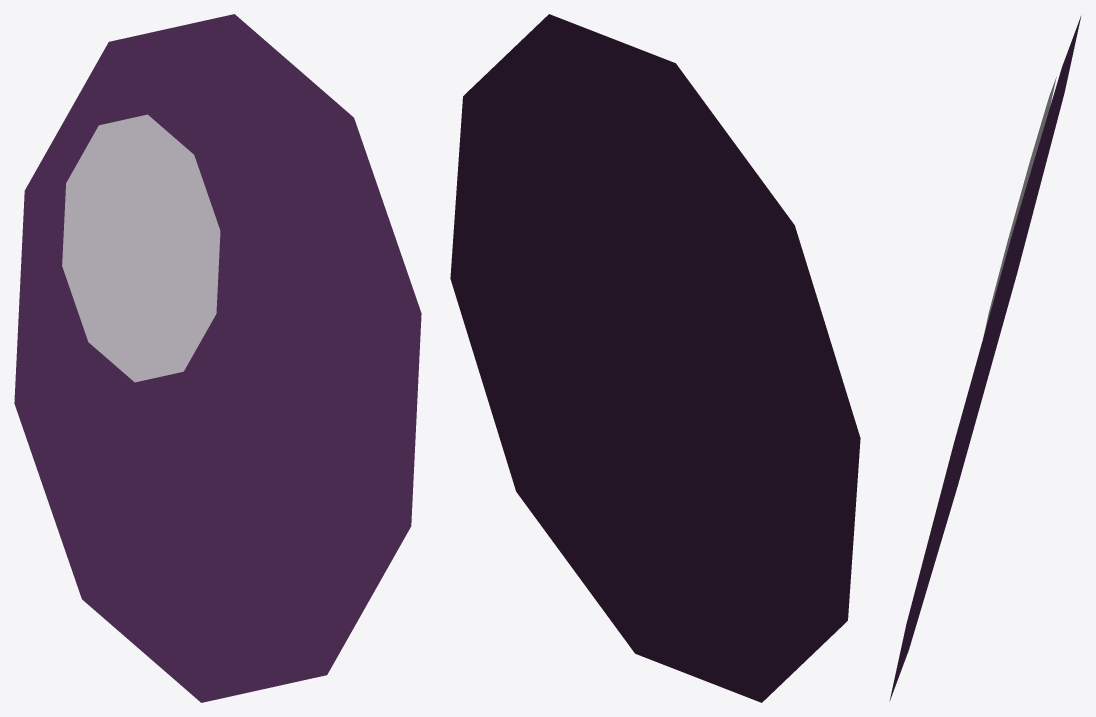
Rendered from scareCrowPupilRight.glb.
The picture shows the model from 3 angles, left to right: view 1: azimuth 30°, elevation 25°; view 2: azimuth 150°, elevation 25°; view 3: azimuth 270°, elevation 25°; orthographic projection. The views are drawn at different scales.
Parts seen in each view (by area): view 1: scareCrowPupilRight; view 2: scareCrowPupilRight; view 3: scareCrowPupilRight.
Boxes of the visible parts, x1,y1,x2,y2 form: scareCrowPupilRight: [14, 14, 421, 702]; scareCrowPupilRight: [450, 14, 860, 702]; scareCrowPupilRight: [889, 16, 1081, 700].
Size of the model in its own units: 0.032 by 0.0494 by 0.0135.
